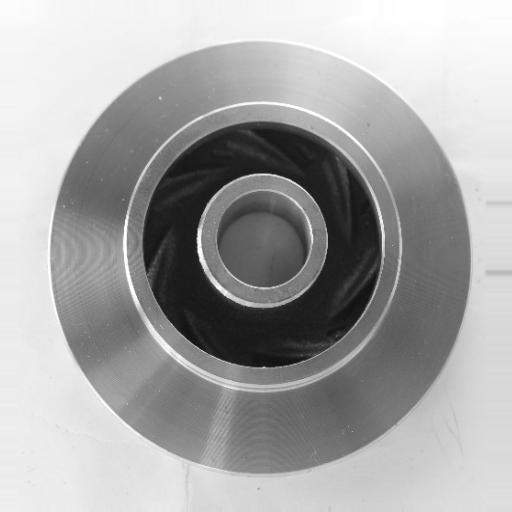polished_casting: (47, 39, 474, 477)
